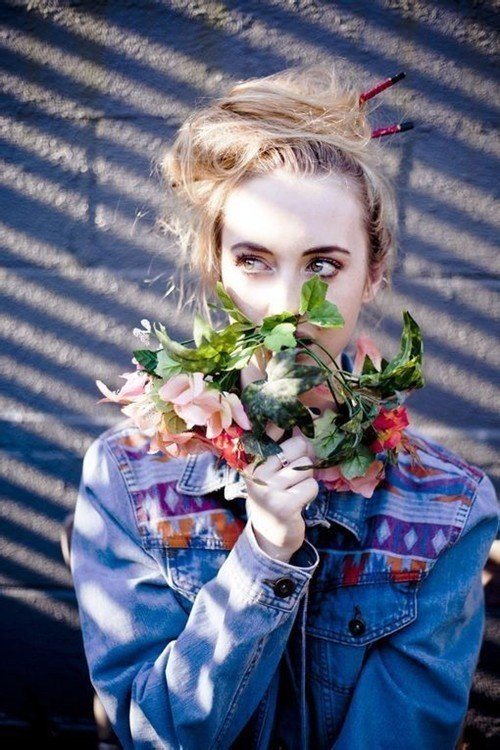face: (220, 164, 365, 375)
